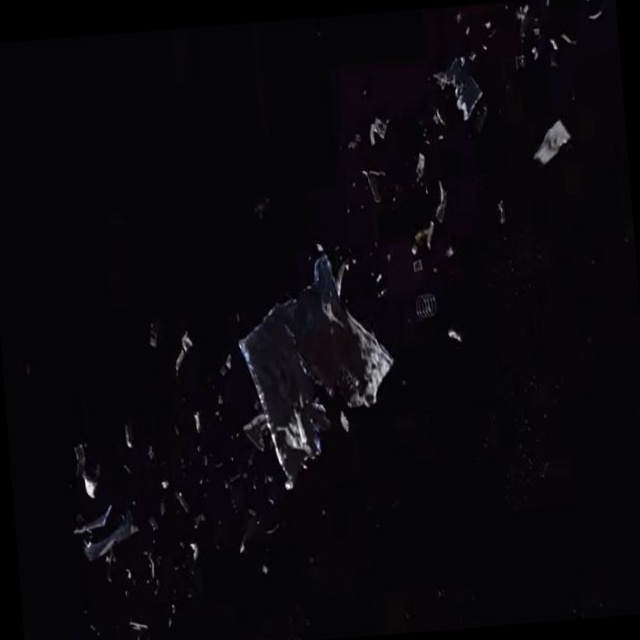large_debris: (227, 235, 396, 507), (54, 482, 123, 555), (449, 60, 501, 142), (536, 127, 592, 202), (58, 416, 91, 485), (412, 289, 444, 338), (168, 313, 192, 375), (370, 165, 399, 211), (412, 225, 442, 267), (380, 118, 409, 158), (438, 188, 460, 238), (418, 155, 439, 195), (441, 335, 463, 357), (412, 266, 428, 285)
